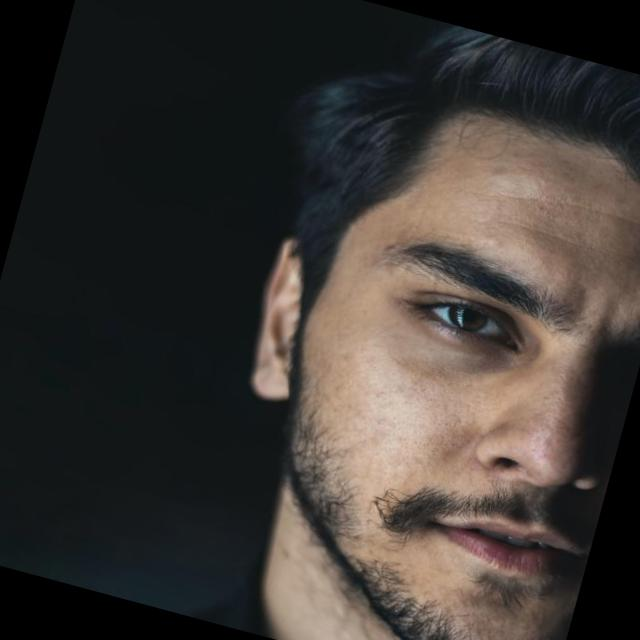person: (143, 0, 640, 640)
